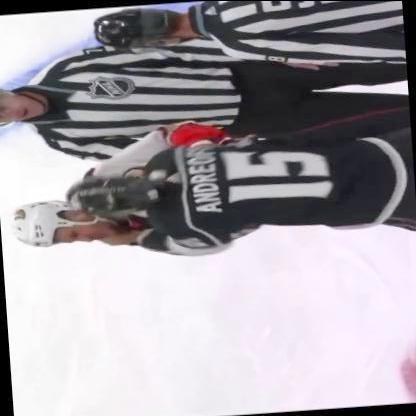non-Voilence: (82, 1, 407, 92)
voilence: (0, 101, 415, 272)
